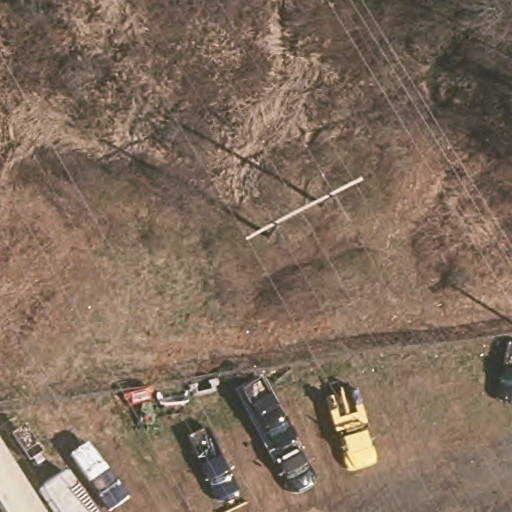DT: (228, 166, 370, 252)
